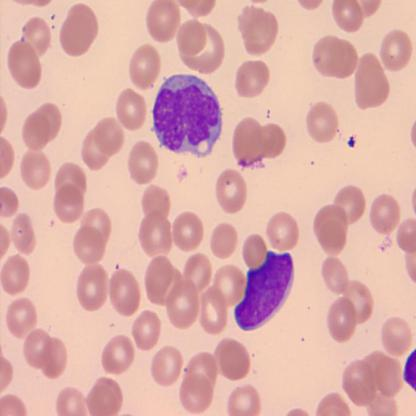Monocyte: (149, 73, 224, 160), (233, 249, 296, 334)
